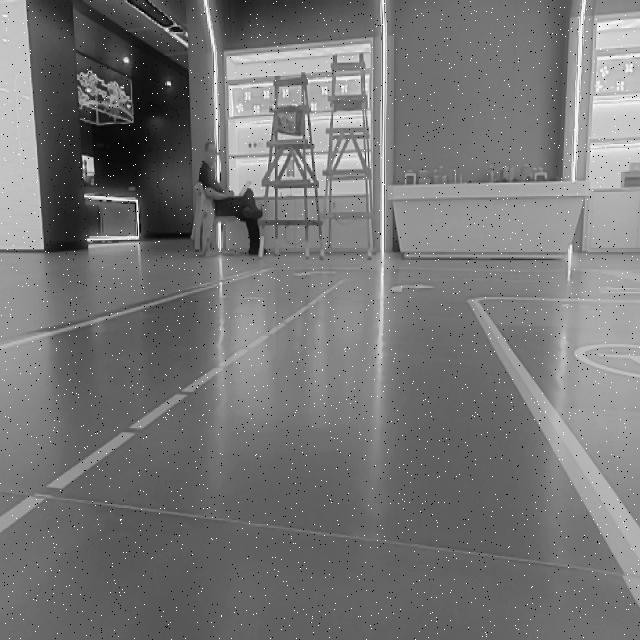left_lane: (3, 285, 340, 531)
right_lane: (472, 309, 639, 606), (1, 275, 249, 355)
